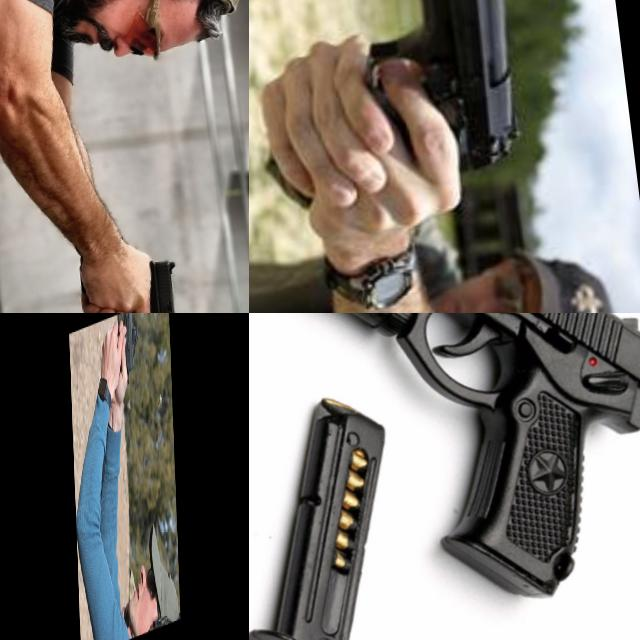handgun: (249, 313, 640, 631), (249, 0, 551, 224), (106, 250, 193, 313), (112, 313, 140, 393)
